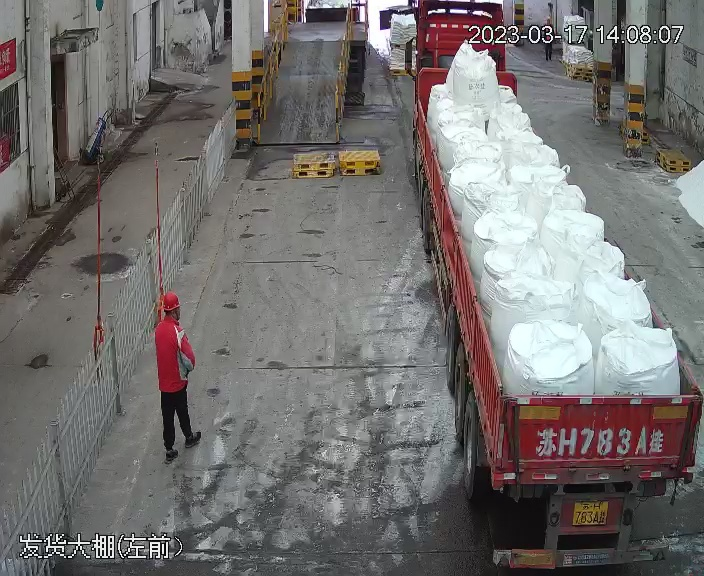head: (153, 289, 192, 345)
helmet: (160, 289, 183, 311)
people: (153, 286, 205, 462)
truck: (403, 1, 702, 556)
